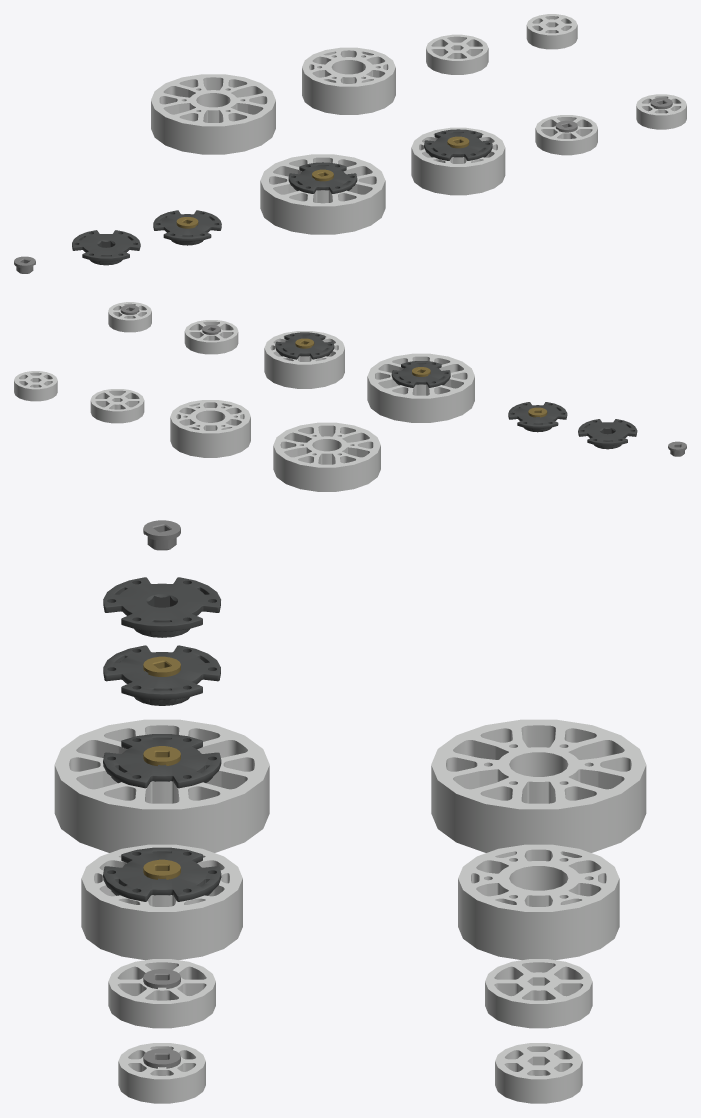
Rendered from Flex Wheels.fbx.
3 views of the same model, one above another, from view 1: azimuth 30°, elevation 25°; view 2: azimuth 150°, elevation 25°; view 3: azimuth 270°, elevation 25° (orthographic). The views are drawn at different scales.
Visible parts, largest first — view 1: Flex Wheel 4in Assembly, Flex Wheel 4in, Flex Wheel 3in Assembly, Flex Wheel 3in, Flex Wheel 2in Assembly, Flex Wheel 2in, VersaHub + VersaHex Adapter, VersaHub, Flex Wheel 1.625, Flex Wheel 1.625 Assembly; view 2: Flex Wheel 4in, Flex Wheel 4in Assembly, Flex Wheel 3in Assembly, Flex Wheel 3in, Flex Wheel 2in Assembly, Flex Wheel 2in, VersaHub, VersaHub + VersaHex Adapter, Flex Wheel 1.625 Assembly, Flex Wheel 1.625; view 3: Flex Wheel 4in, Flex Wheel 4in Assembly, Flex Wheel 3in, Flex Wheel 3in Assembly, Flex Wheel 2in Assembly, Flex Wheel 2in, VersaHub, VersaHub + VersaHex Adapter, Flex Wheel 1.625 Assembly, Flex Wheel 1.625, VersaHex Adapter.
Boxes of the visible parts, <box> form: Flex Wheel 4in Assembly: <box>260,154,385,234</box>; Flex Wheel 4in: <box>151,74,275,154</box>; Flex Wheel 3in Assembly: <box>411,127,505,195</box>; Flex Wheel 3in: <box>302,47,395,114</box>; Flex Wheel 2in Assembly: <box>535,115,597,155</box>; Flex Wheel 2in: <box>426,34,488,74</box>; VersaHub + VersaHex Adapter: <box>153,210,221,245</box>; VersaHub: <box>72,230,140,265</box>; Flex Wheel 1.625: <box>526,14,577,49</box>; Flex Wheel 1.625 Assembly: <box>636,94,686,129</box>; Flex Wheel 4in: <box>273,422,380,491</box>; Flex Wheel 4in Assembly: <box>367,353,474,422</box>; Flex Wheel 3in Assembly: <box>264,331,344,388</box>; Flex Wheel 3in: <box>170,400,250,457</box>; Flex Wheel 2in Assembly: <box>184,320,238,354</box>; Flex Wheel 2in: <box>90,389,144,423</box>; VersaHub: <box>578,419,637,449</box>; VersaHub + VersaHex Adapter: <box>508,402,567,432</box>; Flex Wheel 1.625 Assembly: <box>108,302,151,332</box>; Flex Wheel 1.625: <box>14,371,57,401</box>; Flex Wheel 4in: <box>431,719,646,852</box>; Flex Wheel 4in Assembly: <box>54,719,269,852</box>; Flex Wheel 3in: <box>458,844,619,960</box>; Flex Wheel 3in Assembly: <box>81,844,242,960</box>; Flex Wheel 2in Assembly: <box>108,959,215,1028</box>; Flex Wheel 2in: <box>485,959,592,1028</box>; VersaHub: <box>103,577,220,637</box>; VersaHub + VersaHex Adapter: <box>103,645,220,705</box>; Flex Wheel 1.625 Assembly: <box>118,1043,205,1103</box>; Flex Wheel 1.625: <box>495,1043,582,1103</box>; VersaHex Adapter: <box>143,520,180,550</box>.
Size of the model in its own units: 2465 by 144 by 1100.
